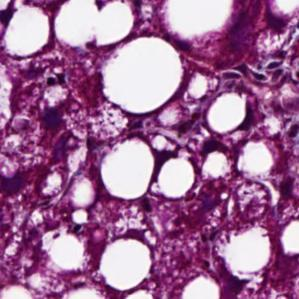inflammation: (228, 177, 279, 226), (242, 47, 299, 86), (29, 102, 78, 138)
